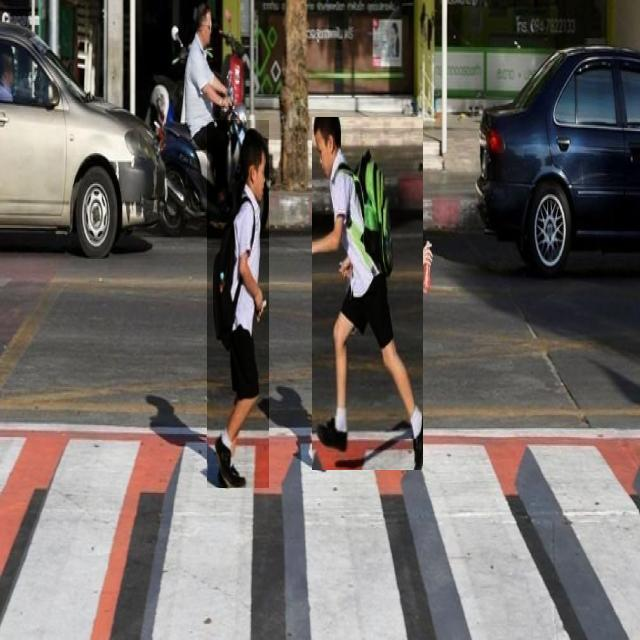without scooter: (312, 118, 423, 470), (207, 120, 269, 488)
